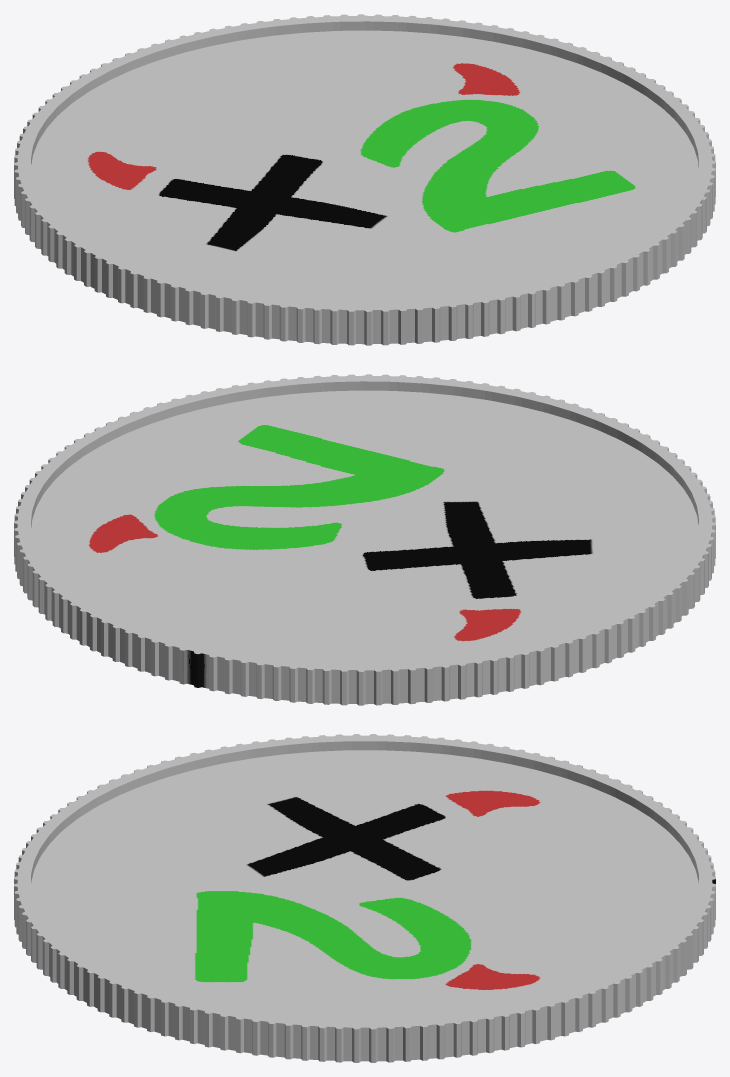
Rendered from doubletrouble.obj.
The picture shows the model from 3 angles, top to bottom: view 1: azimuth 30°, elevation 25°; view 2: azimuth 150°, elevation 25°; view 3: azimuth 270°, elevation 25°; orthographic projection.
Visible parts, largest first — view 1: Cylinder; view 2: Cylinder; view 3: Cylinder.
Boxes of the visible parts, <box> form: Cylinder: <box>14,14,715,345</box>; Cylinder: <box>14,374,715,705</box>; Cylinder: <box>14,734,715,1062</box>.
Size of the model in its own units: 8.1 by 0.4326 by 8.15.
1 material, 1 textured.
